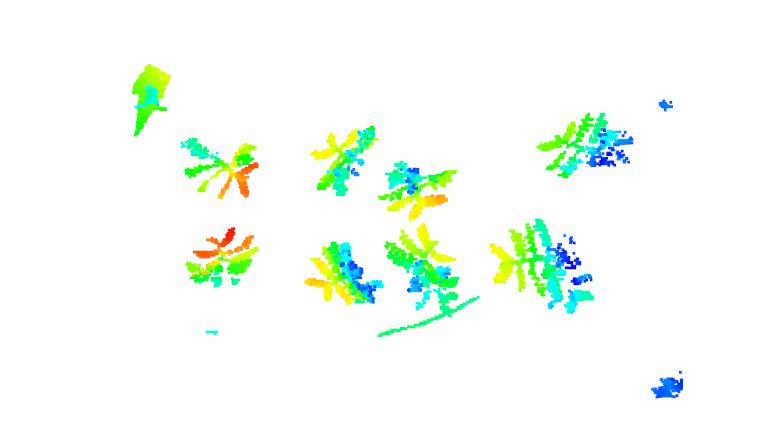chickpea: (489, 220, 597, 315), (382, 222, 461, 317), (537, 111, 635, 181), (304, 239, 384, 306), (374, 159, 458, 221), (179, 134, 258, 199), (182, 225, 258, 288), (315, 124, 380, 196)
